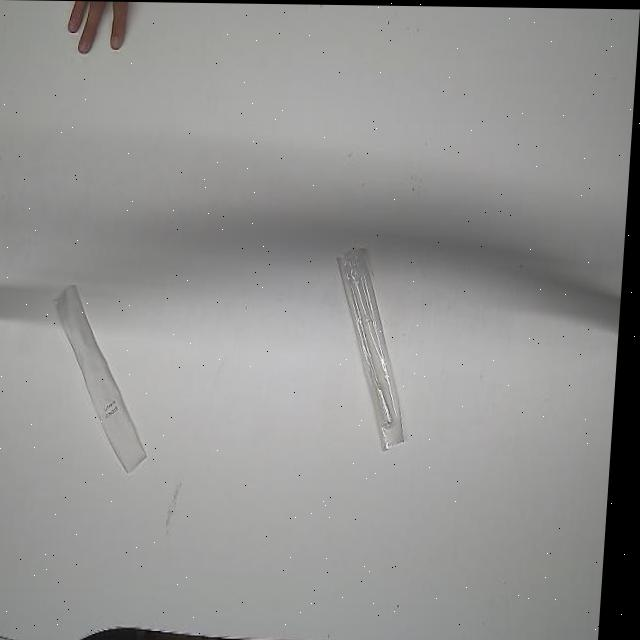Disposable Pasteur Pipette - Sealed: (49, 277, 166, 479), (328, 243, 425, 450)
